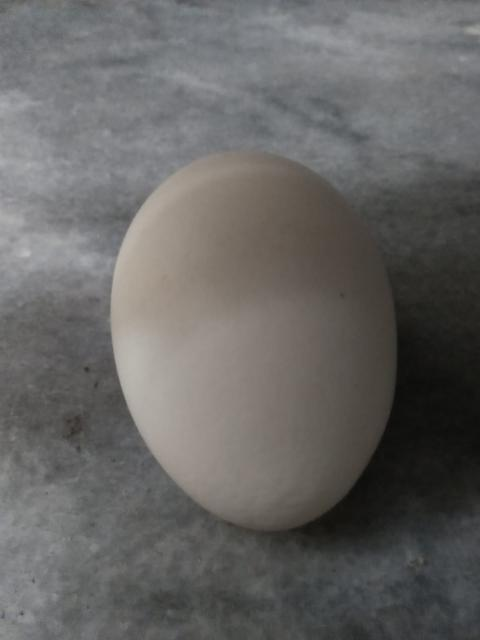Sano: (108, 147, 400, 529)
